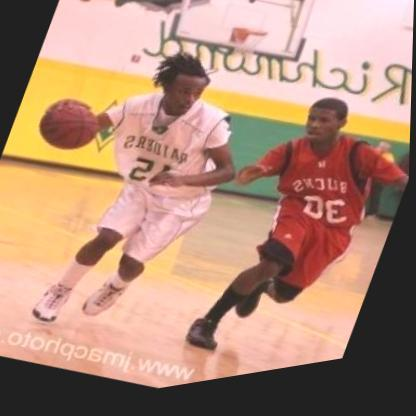basketball: (31, 89, 108, 166)
